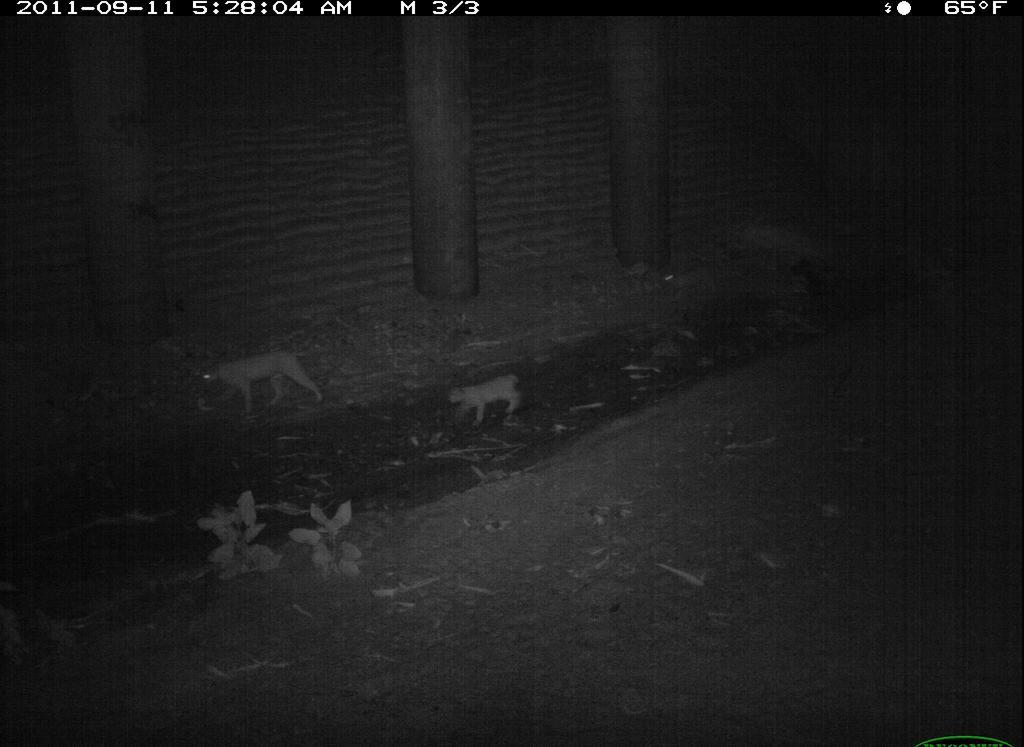bobcat: (390, 681, 665, 747), (887, 738, 1024, 747)
